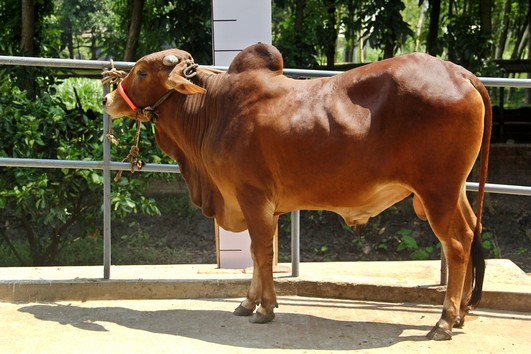cow: (92, 38, 496, 340)
